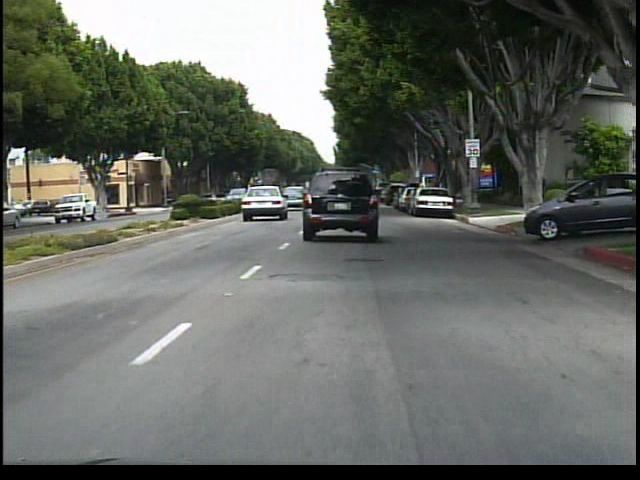person: (513, 169, 534, 213)
